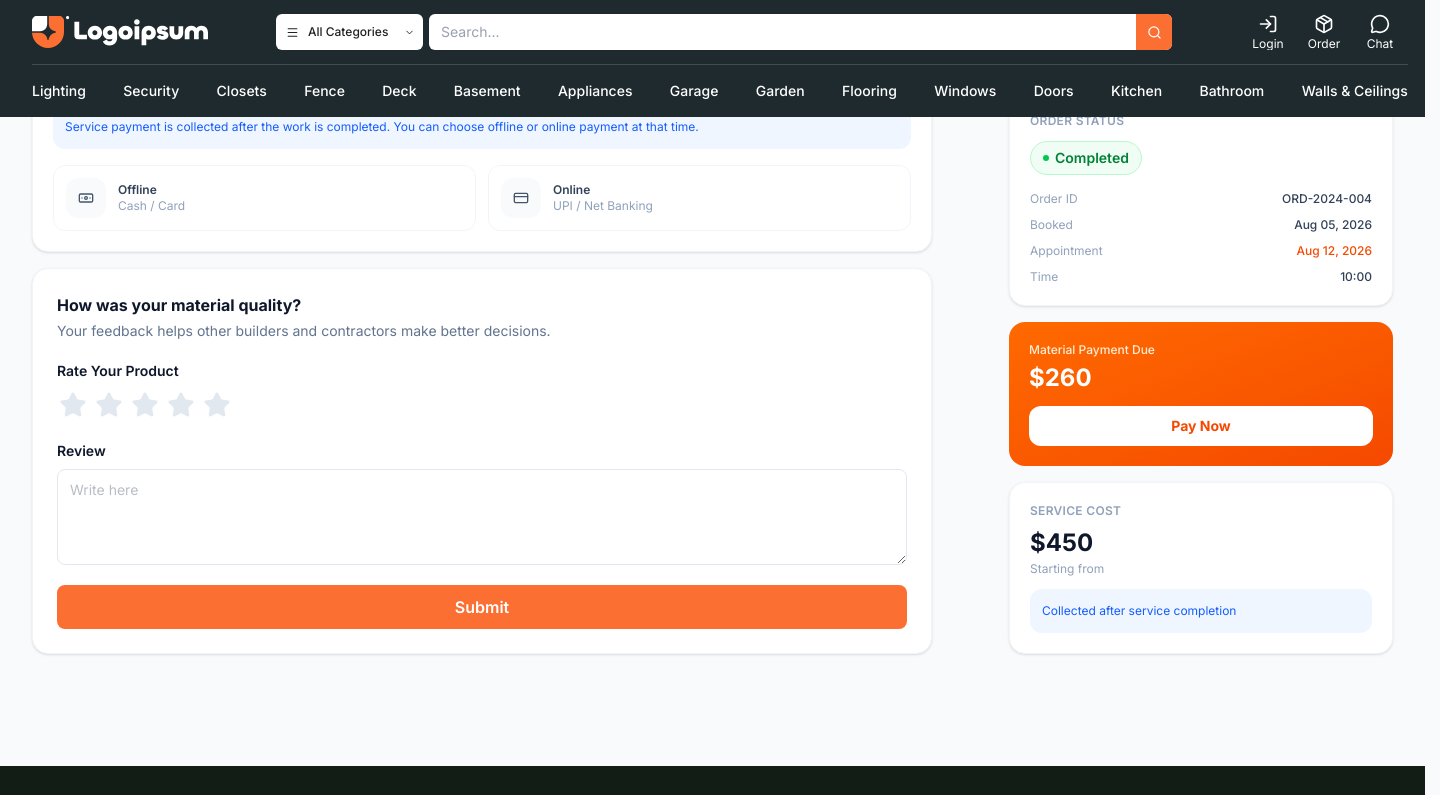
it: OrderDetailsContent › shows material feedback only on completed order details
(page scrolled)
Expected: the heading "How was your material quality?" is shown, [57,295,301,315]
Expected: the button "Submit" is shown, [57,585,907,629]
Click the button named "Rate 4 out of 5" at (181, 405), box [165,389,197,421]
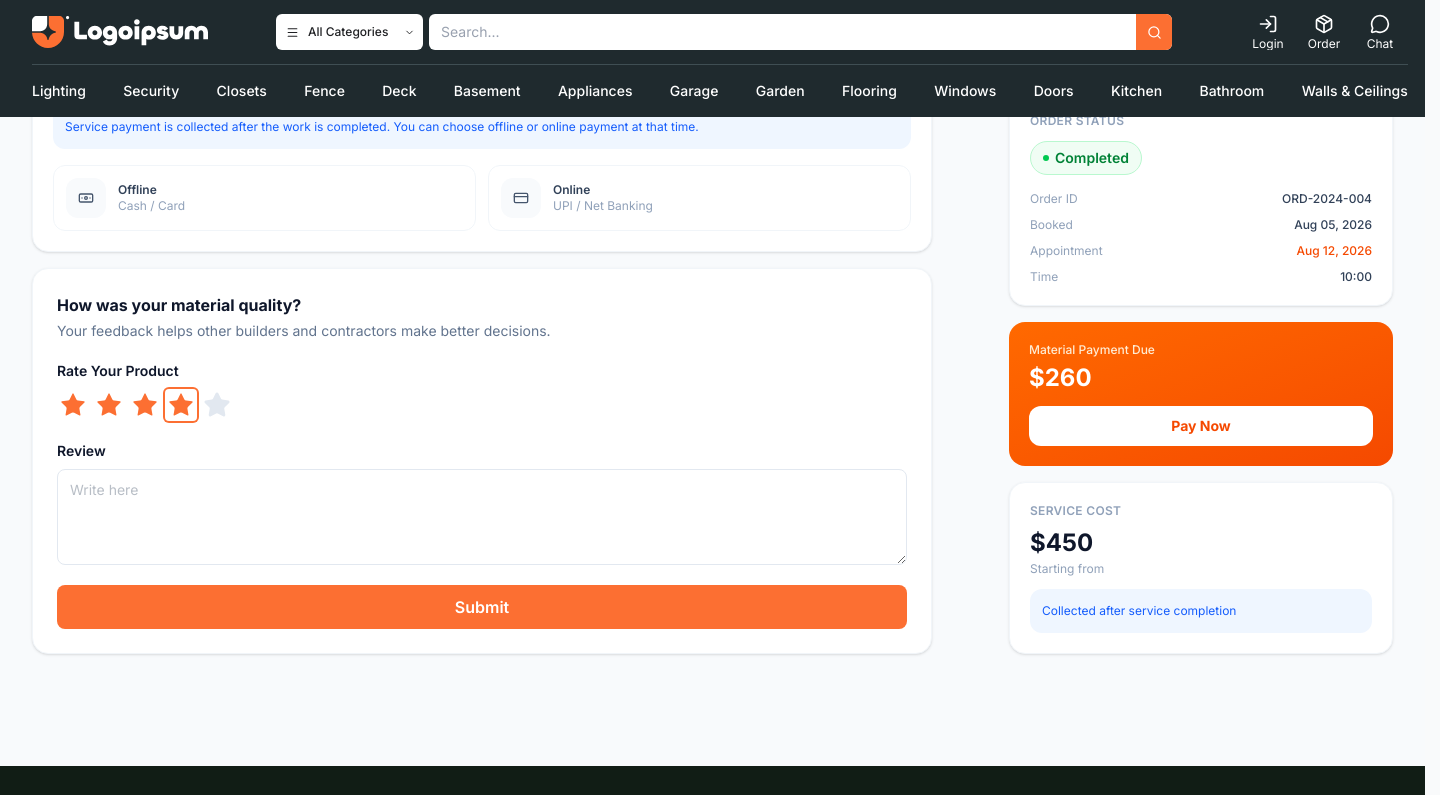
Type "Great materials" into the text box with placeholder "Write here" at (482, 517), box [57,469,907,565]
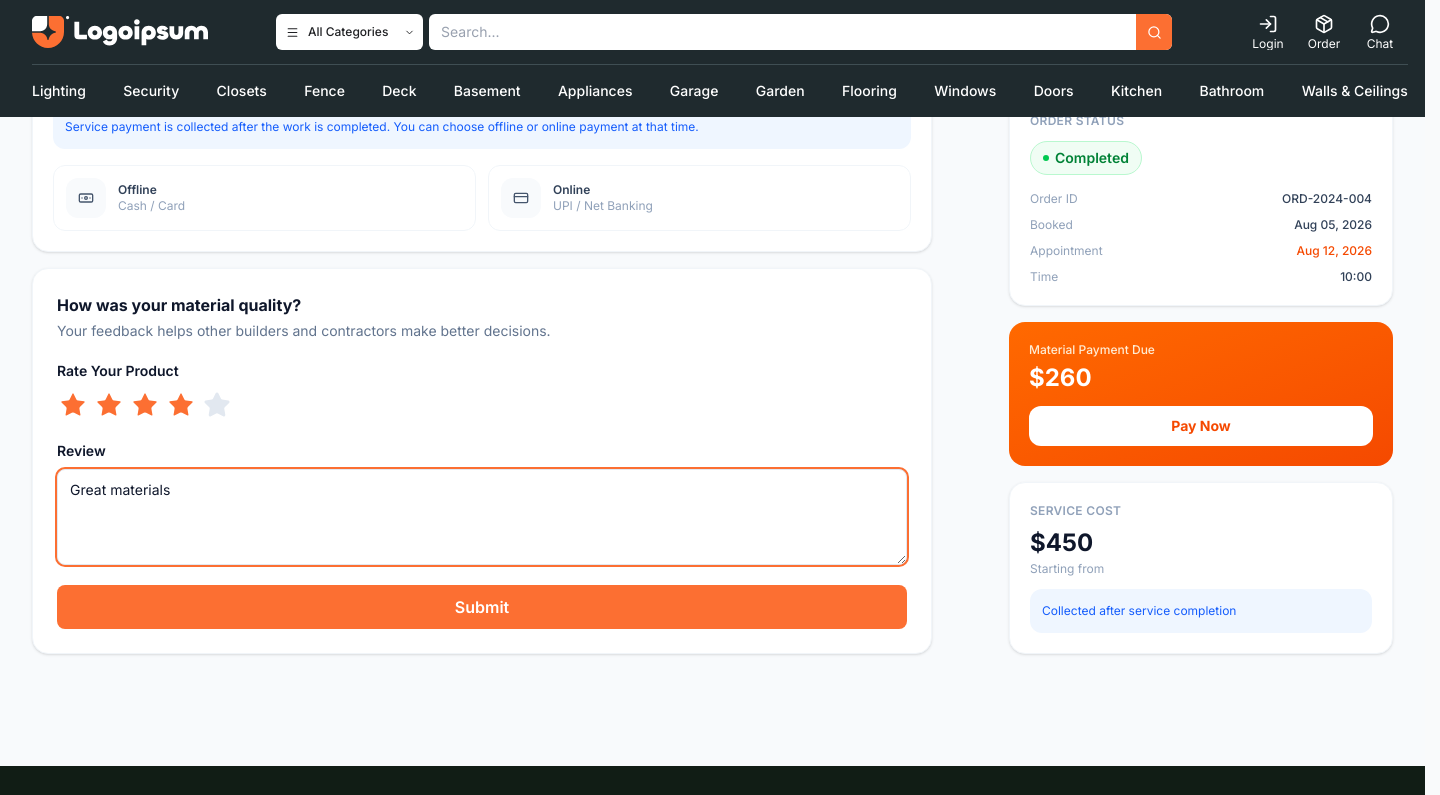
Click the button "Submit" at (482, 607), box [57,585,907,629]
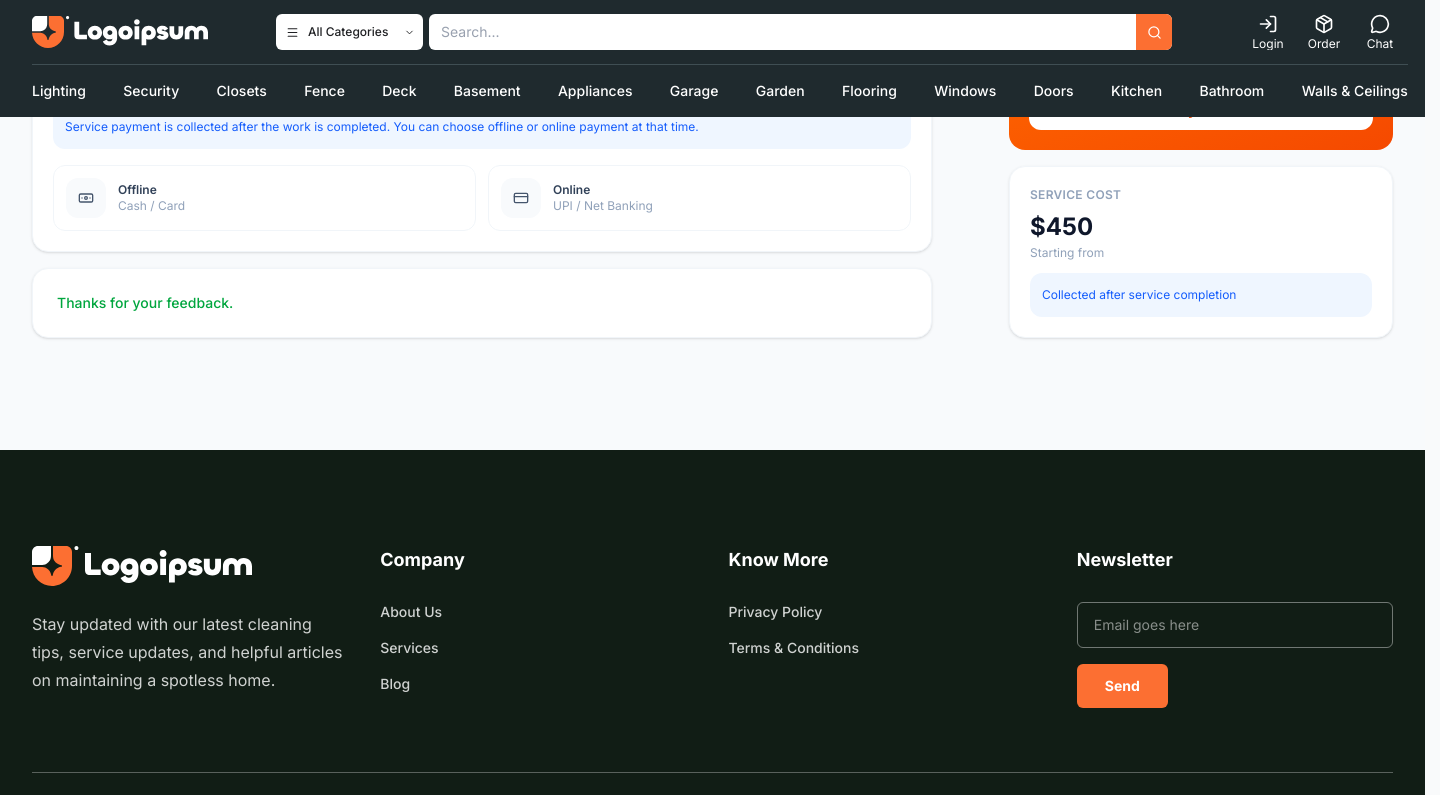
Expected: the text "Thanks for your feedback." is shown, [57,294,233,311]
